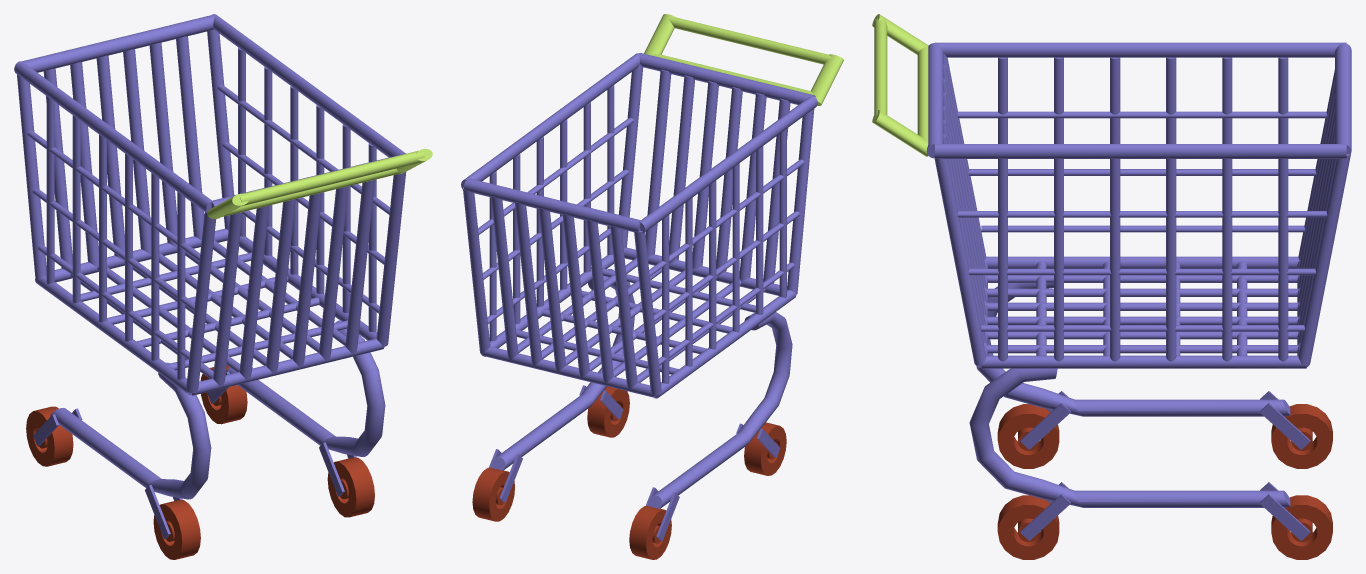
Rendered from shopping-cart.glb.
3 views of the same model, side by side, from view 1: azimuth 30°, elevation 25°; view 2: azimuth 150°, elevation 25°; view 3: azimuth 270°, elevation 25° (orthographic). The views are drawn at different scales.
Parts seen in each view (by area): view 1: Cylinder007, Cylinder009, Tube001, Cylinder012, Box001; view 2: Cylinder007, Cylinder009, Tube001, Cylinder012, Box001; view 3: Cylinder007, Cylinder009, Tube001, Cylinder012, Box001.
Part boxes in pixels (bbox=[...]): Cylinder007: bbox=[14, 14, 406, 395]; Cylinder009: bbox=[50, 320, 385, 499]; Tube001: bbox=[26, 365, 374, 559]; Cylinder012: bbox=[207, 149, 432, 218]; Box001: bbox=[33, 367, 356, 538]; Cylinder007: bbox=[461, 53, 817, 398]; Cylinder009: bbox=[490, 269, 792, 508]; Tube001: bbox=[472, 386, 786, 559]; Cylinder012: bbox=[644, 14, 843, 105]; Box001: bbox=[489, 385, 780, 540]; Cylinder007: bbox=[926, 42, 1351, 368]; Cylinder009: bbox=[969, 283, 1290, 507]; Tube001: bbox=[997, 404, 1332, 559]; Cylinder012: bbox=[872, 14, 928, 156]; Box001: bbox=[1020, 391, 1310, 540].
Bounding box in the file's own units: 0.1989 × 0.3828 × 0.3741.
